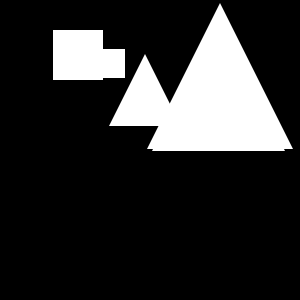circle: (53, 30, 103, 80), (96, 49, 125, 78)
triangle: (147, 3, 293, 149), (152, 18, 285, 151), (109, 54, 181, 126)
